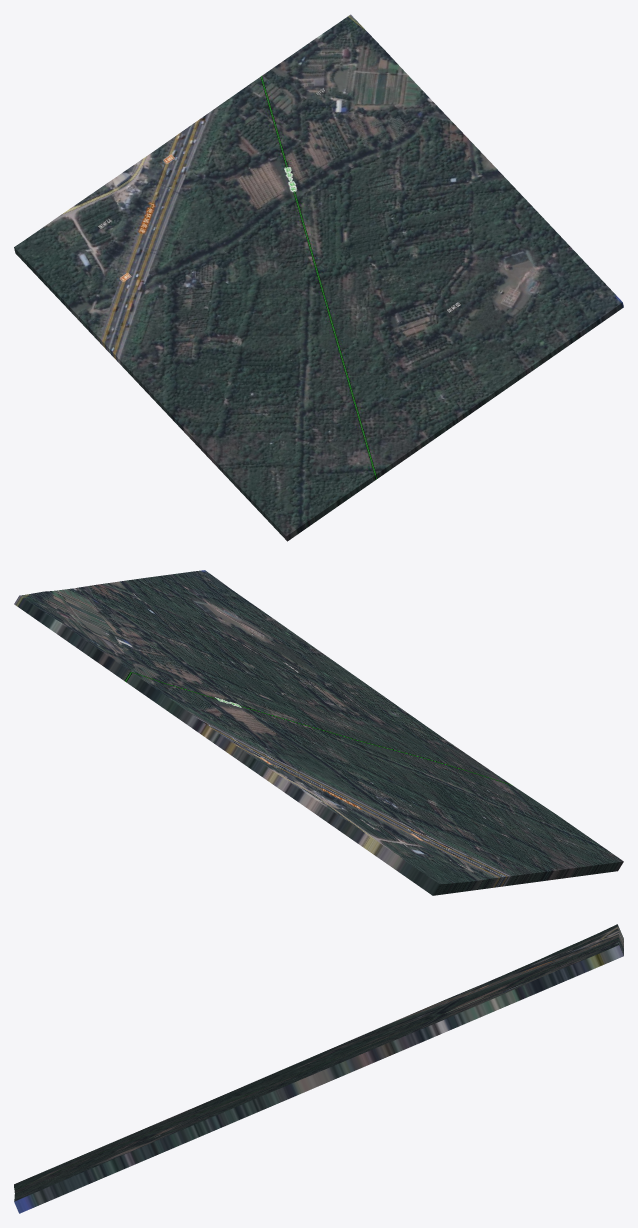
3 renders of one model, top to bottom at view 1: azimuth 30°, elevation 25°; view 2: azimuth 150°, elevation 25°; view 3: azimuth 270°, elevation 25°, orthographic. The views are drawn at different scales.
Visible parts, largest first — view 1: 0_17_32; view 2: 0_17_32; view 3: 0_17_32.
Part boxes in pixels (x1=…): 0_17_32: x1=14, y1=14, x2=623, y2=541; 0_17_32: x1=14, y1=570, x2=623, y2=895; 0_17_32: x1=14, y1=924, x2=623, y2=1213.
Bounding box in the file's own units: 597 × 438 × 547.
Materials: 1 (1 with a texture image).
